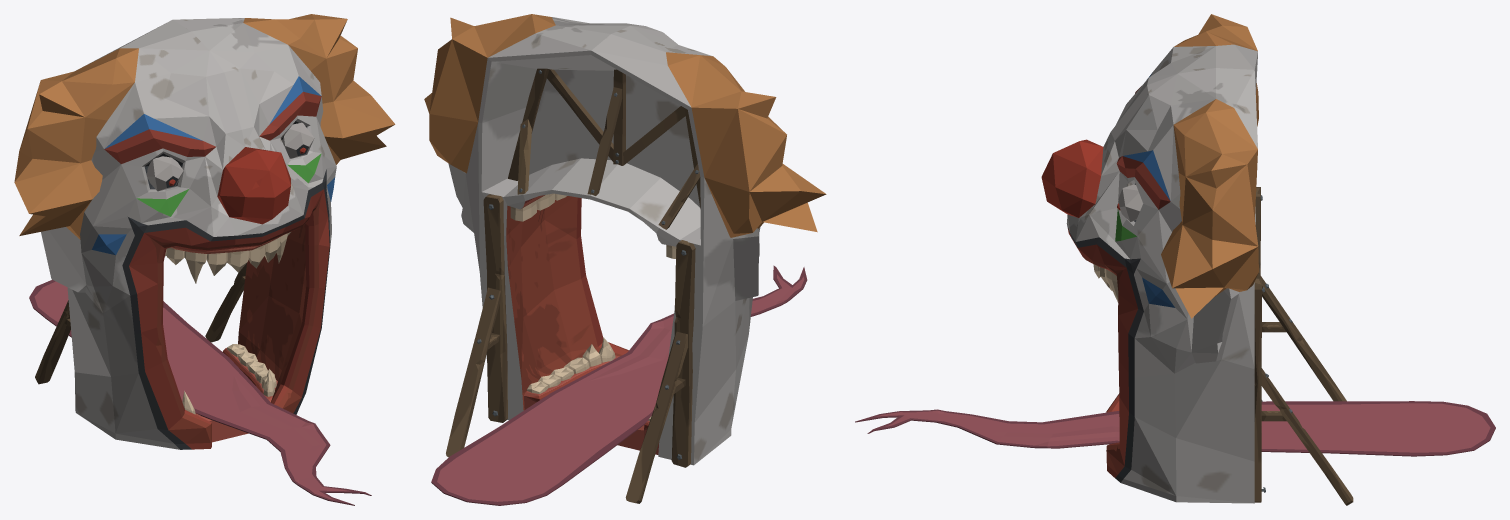
Rendered from SM_Prop_Entrance_Clown_01.fbx.
3 renders of one model, left to right at view 1: azimuth 30°, elevation 25°; view 2: azimuth 150°, elevation 25°; view 3: azimuth 270°, elevation 25°, orthographic. The views are drawn at different scales.
Visible parts, largest first — view 1: SM_Prop_Entrance_Clown_01; view 2: SM_Prop_Entrance_Clown_01; view 3: SM_Prop_Entrance_Clown_01.
Boxes of the visible parts, <box> form: SM_Prop_Entrance_Clown_01: <box>14,14,395,505</box>; SM_Prop_Entrance_Clown_01: <box>424,14,826,505</box>; SM_Prop_Entrance_Clown_01: <box>855,14,1495,505</box>.
Bounding box in the file's own units: 583 × 572 × 845.
